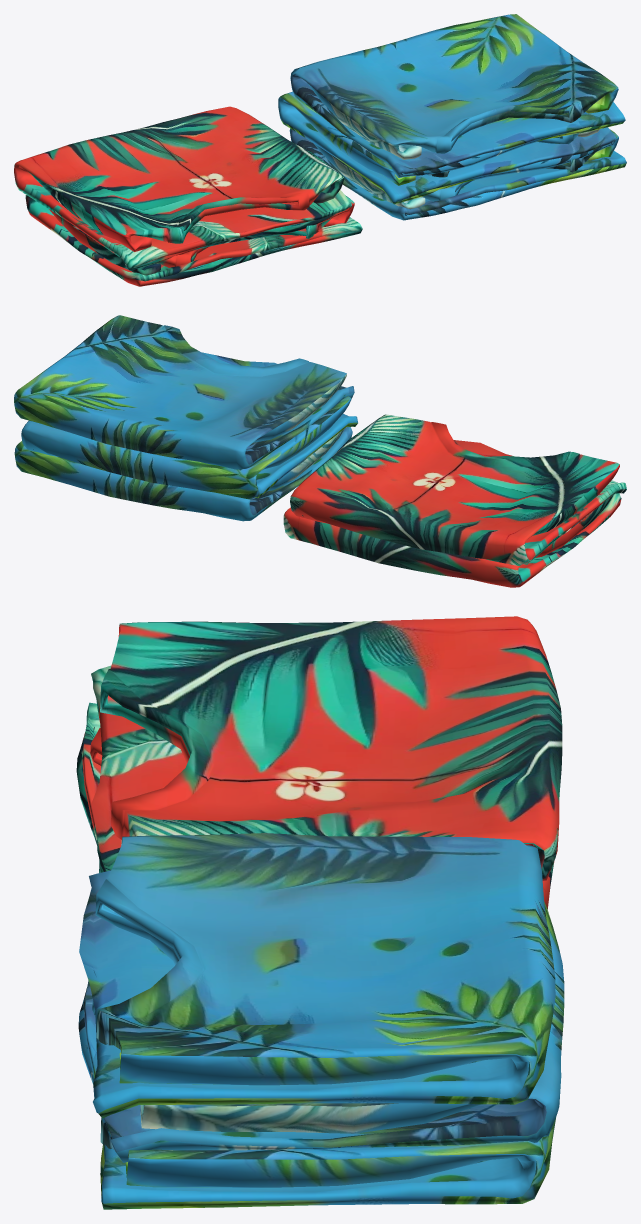
File: Shirts2.fbx
The picture shows the model from 3 angles, top to bottom: view 1: azimuth 30°, elevation 25°; view 2: azimuth 150°, elevation 25°; view 3: azimuth 270°, elevation 25°; orthographic projection. The views are drawn at different scales.
Parts seen in each view (by area): view 1: Shirts2, Shirts1; view 2: Shirts2, Shirts1; view 3: Shirts2, Shirts1.
Boxes of the visible parts, left/top/right/bottom form: Shirts2: left=278, top=14, right=626, bottom=220; Shirts1: left=14, top=106, right=362, bottom=286; Shirts2: left=14, top=315, right=357, bottom=521; Shirts1: left=283, top=414, right=626, bottom=587; Shirts2: left=78, top=833, right=564, bottom=1209; Shirts1: left=76, top=616, right=562, bottom=909.
Size of the model in its own units: 80.25 by 12.1 by 33.37.
